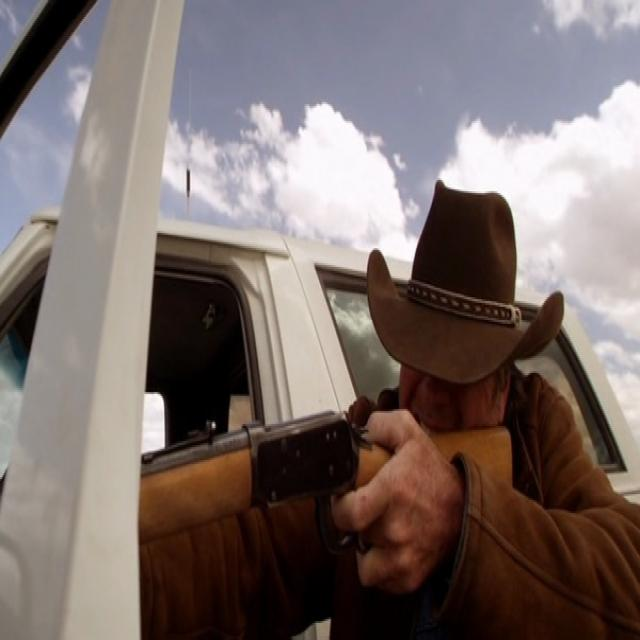rifle: (140, 407, 514, 541)
